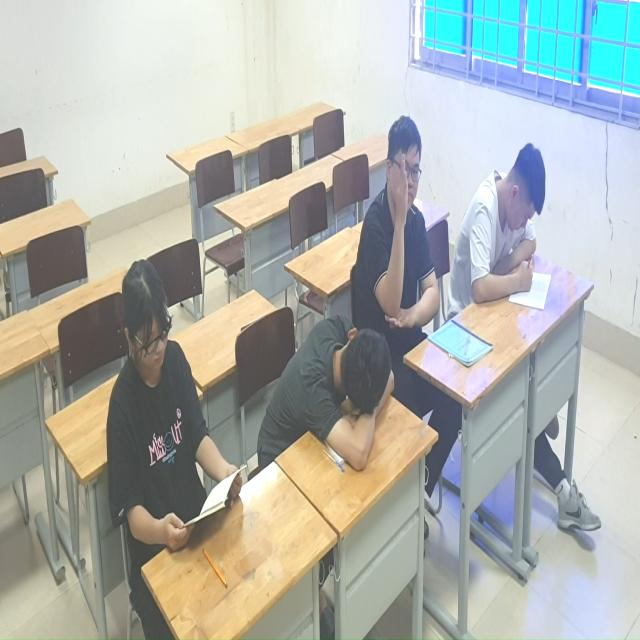raise_hand: (364, 114, 443, 342)
read: (98, 255, 251, 561), (449, 134, 561, 321)
sleep: (258, 310, 400, 482)
